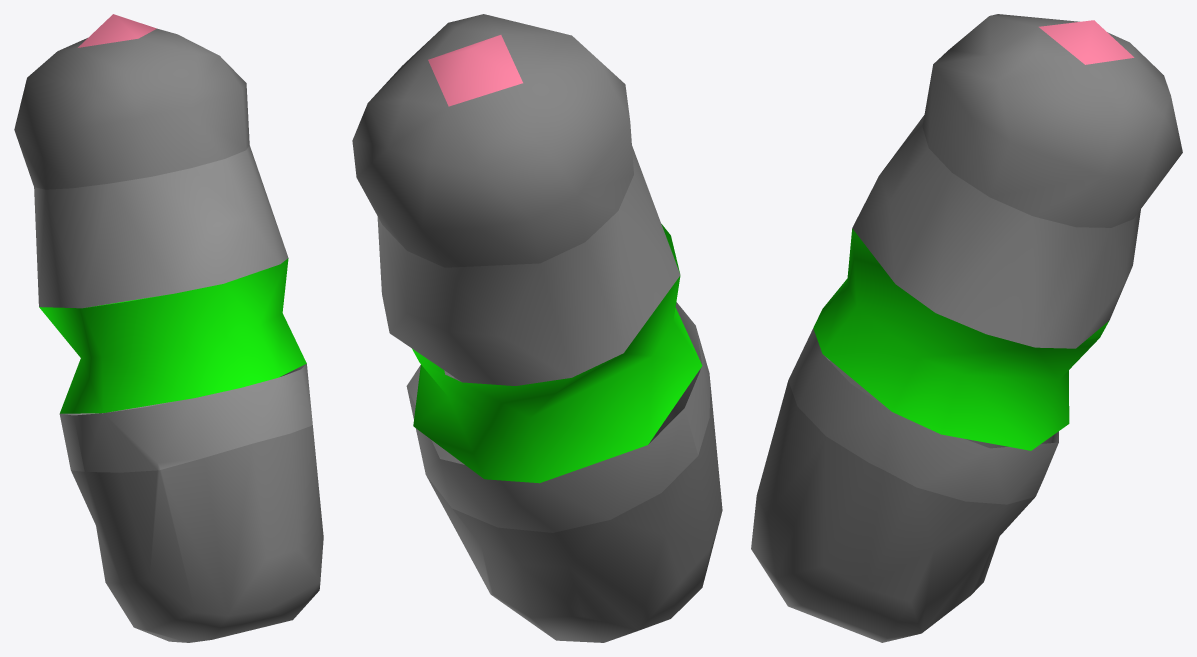
3 renders of one model, left to right at view 1: azimuth 30°, elevation 25°; view 2: azimuth 150°, elevation 25°; view 3: azimuth 270°, elevation 25°, orthographic. The views are drawn at different scales.
Parts seen in each view (by area): view 1: Capsule; view 2: Capsule; view 3: Capsule.
Part boxes in pixels (box(x1,y1,x2,y2)): Capsule: box(14, 14, 323, 642); Capsule: box(352, 14, 722, 642); Capsule: box(751, 14, 1182, 642).
Bounding box in the file's own units: 0.973 × 2.33 × 1.51.
